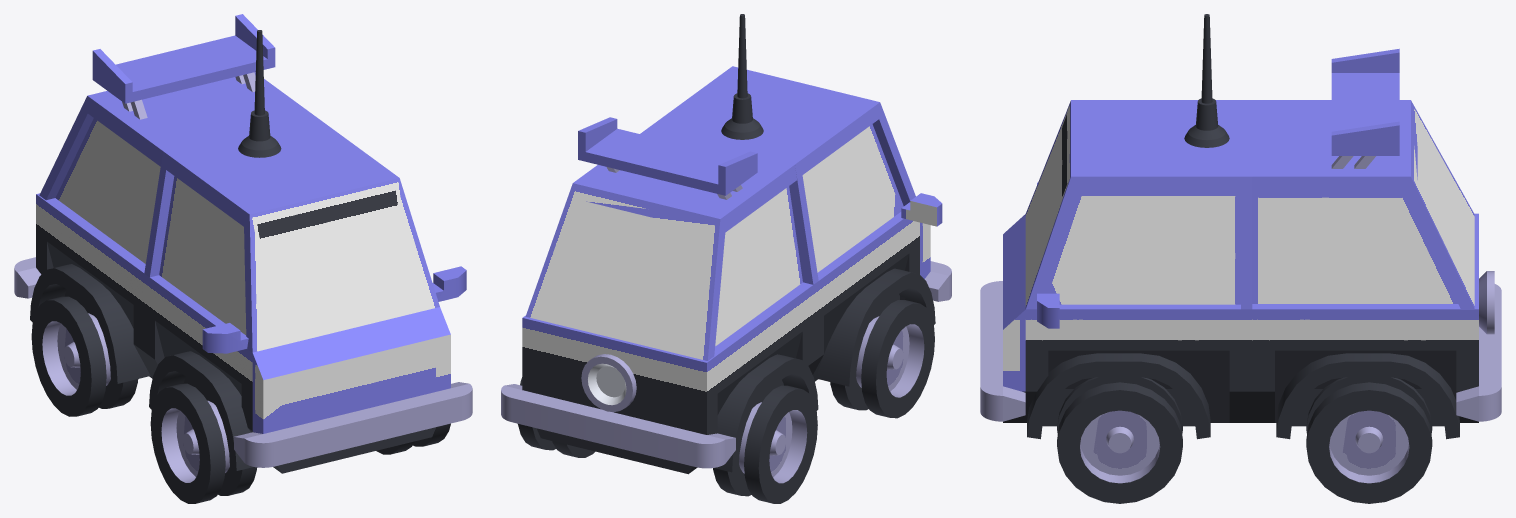
File: travel_van-01_blue.fbx
3 renders of one model, left to right at view 1: azimuth 30°, elevation 25°; view 2: azimuth 150°, elevation 25°; view 3: azimuth 270°, elevation 25°, orthographic. The views are drawn at different scales.
Visible parts, largest first — view 1: body_topSteep, body_topBackStation, body_frontTruckFlat, wheel_tank (×3), body_edge (×2), bumper (×2), wheel_coverWide (×2), spoiler_fins, detail_mirror (×2), detail_antenna; view 2: body_topBackStation, body_edge (×2), body_topSteep, wheel_tank (×3), bumper (×2), wheel_coverWide (×2), spoiler_fins, detail_light, detail_antenna, detail_mirror, body_frontTruckFlat; view 3: body_topSteep, body_topBackStation, body_edge (×2), wheel_tank (×2), wheel_coverWide (×2), spoiler_fins, bumper (×2), body_frontTruckFlat, detail_antenna, detail_light, detail_mirror.
Part boxes in pixels (left/top/right/bottom): body_topSteep: left=144, top=114, right=439, bottom=352; body_topBackStation: left=39, top=72, right=312, bottom=263; body_frontTruckFlat: left=252, top=307, right=450, bottom=473; wheel_tank (×3): left=31, top=295, right=450, bottom=503; body_edge (×2): left=36, top=193, right=252, bottom=432; bumper (×2): left=14, top=257, right=472, bottom=467; wheel_coverWide (×2): left=30, top=264, right=252, bottom=470; spoiler_fins: left=92, top=14, right=275, bottom=119; detail_mirror (×2): left=202, top=266, right=466, bottom=353; detail_antenna: left=238, top=30, right=281, bottom=157; body_topBackStation: left=525, top=128, right=802, bottom=360; body_edge (×2): left=522, top=212, right=919, bottom=474; body_topSteep: left=647, top=66, right=915, bottom=284; wheel_tank (×3): left=518, top=298, right=934, bottom=503; bumper (×2): left=501, top=261, right=951, bottom=468; wheel_coverWide (×2): left=714, top=268, right=935, bottom=472; spoiler_fins: left=578, top=117, right=757, bottom=199; detail_light: left=581, top=354, right=636, bottom=412; detail_antenna: left=721, top=14, right=763, bottom=139; detail_mirror: left=901, top=193, right=942, bottom=226; body_frontTruckFlat: left=920, top=222, right=930, bottom=278; body_topSteep: left=1025, top=100, right=1252, bottom=309; body_topBackStation: left=1252, top=100, right=1474, bottom=308; body_edge (×2): left=1025, top=213, right=1478, bottom=422; wheel_tank (×2): left=1057, top=377, right=1432, bottom=503; wheel_coverWide (×2): left=1027, top=353, right=1459, bottom=439; spoiler_fins: left=1331, top=48, right=1399, bottom=168; bumper (×2): left=980, top=281, right=1501, bottom=421; body_frontTruckFlat: left=1003, top=214, right=1025, bottom=422; detail_antenna: left=1184, top=14, right=1229, bottom=147; detail_light: left=1479, top=271, right=1494, bottom=334; detail_mirror: left=1037, top=293, right=1059, bottom=328.
Bounding box in the file's own units: 138 × 208 × 230.
1 material, 1 textured.
